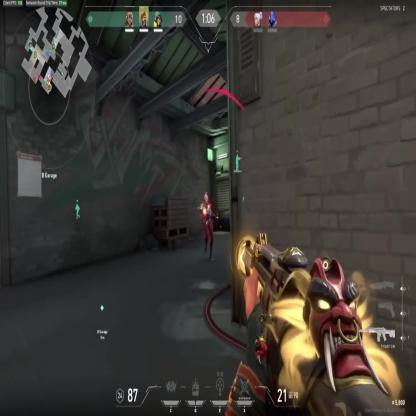enemy: (201, 194, 217, 262)
enemy_head: (204, 194, 209, 204)
